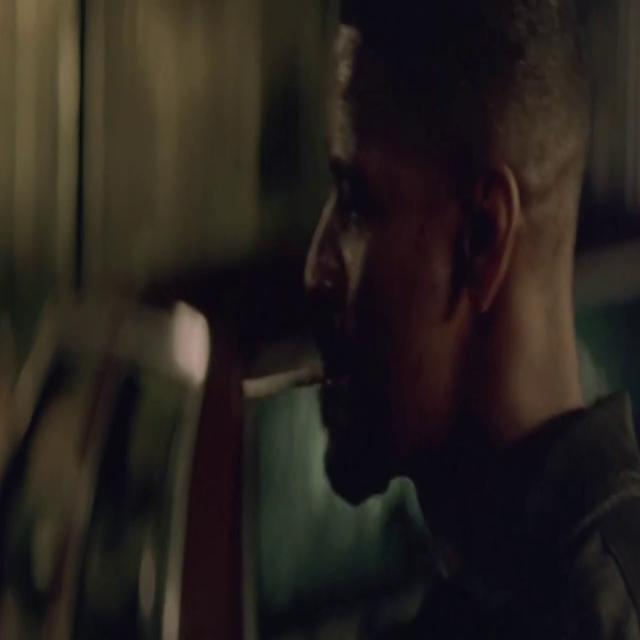Smooking: (228, 354, 336, 414)
